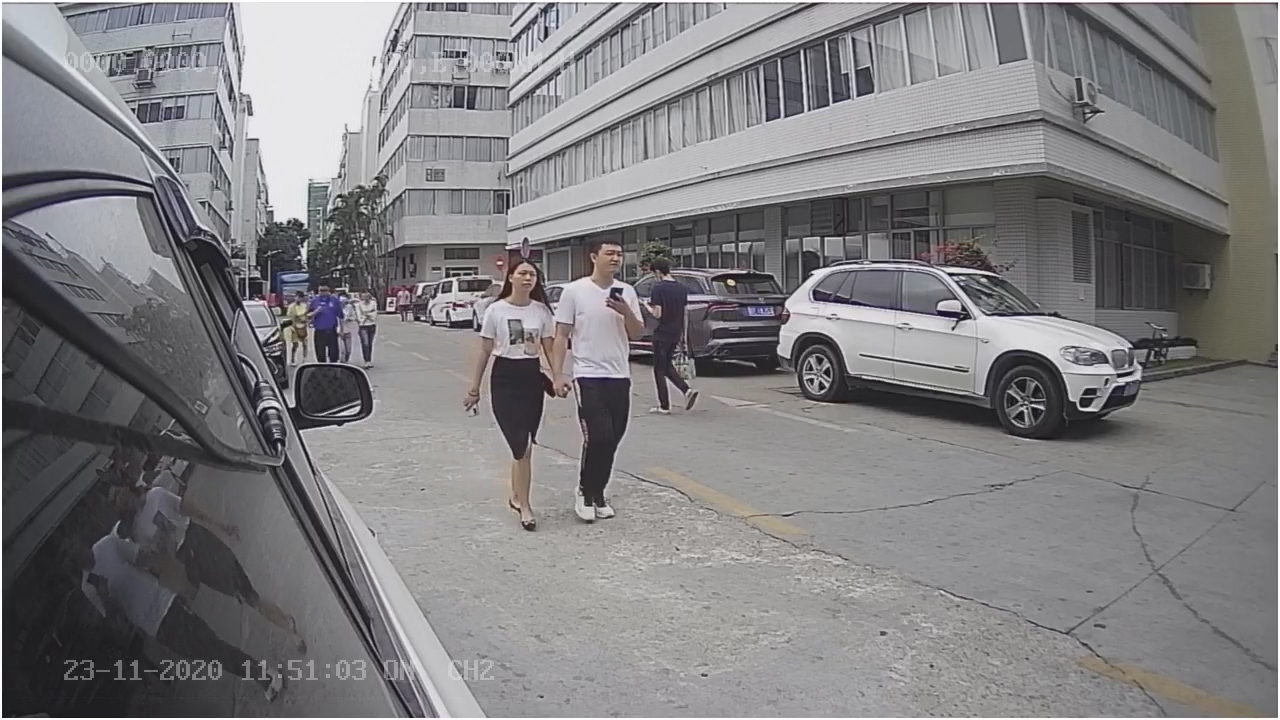person: (465, 251, 572, 532)
